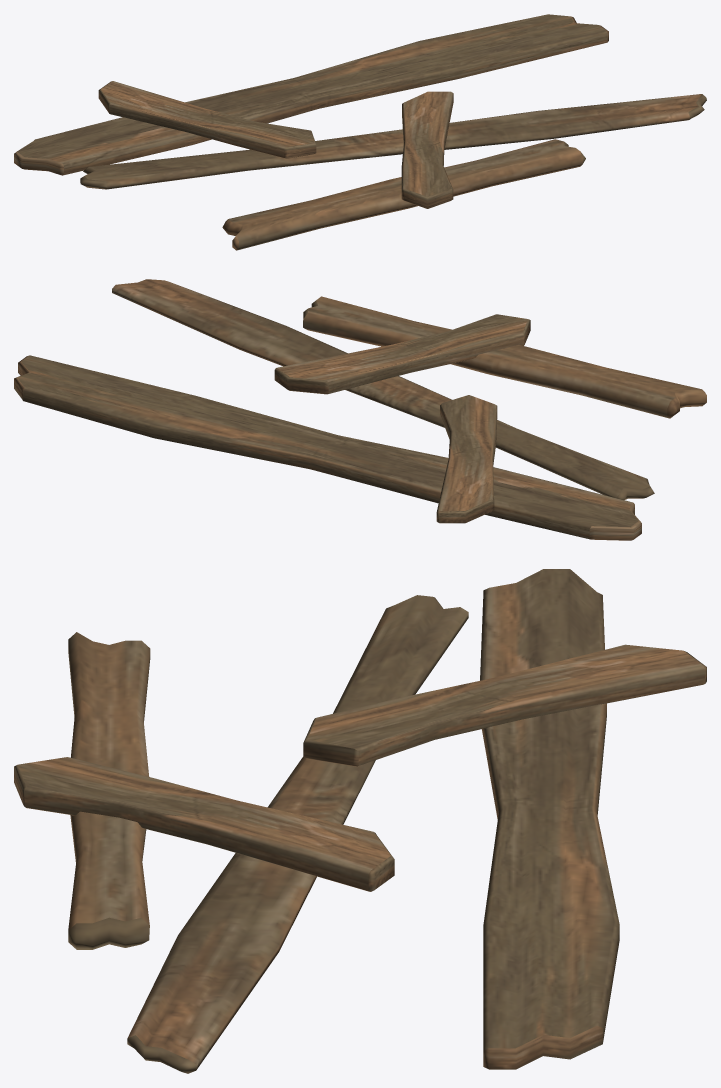
Rendered from SM_Wood_Debris_01.fbx.
3 views of the same model, one above another, from view 1: azimuth 30°, elevation 25°; view 2: azimuth 150°, elevation 25°; view 3: azimuth 270°, elevation 25° (orthographic). The views are drawn at different scales.
Parts seen in each view (by area): view 1: SM_Wood_Debris_01_LOD0; view 2: SM_Wood_Debris_01_LOD0; view 3: SM_Wood_Debris_01_LOD0.
Part boxes in pixels (x1,y1,x2,y2): SM_Wood_Debris_01_LOD0: (14, 14, 706, 250); SM_Wood_Debris_01_LOD0: (14, 279, 706, 540); SM_Wood_Debris_01_LOD0: (14, 569, 706, 1073).
Bounding box in the file's own units: 284 × 169 × 11.13.
2 materials, 2 textured.
